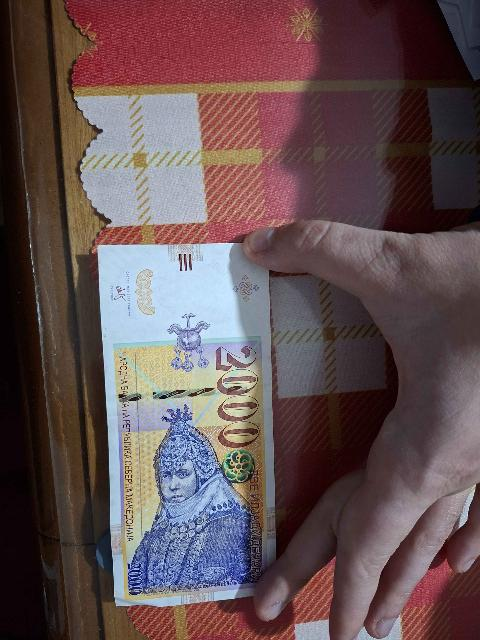2000_note: (97, 245, 280, 609)
